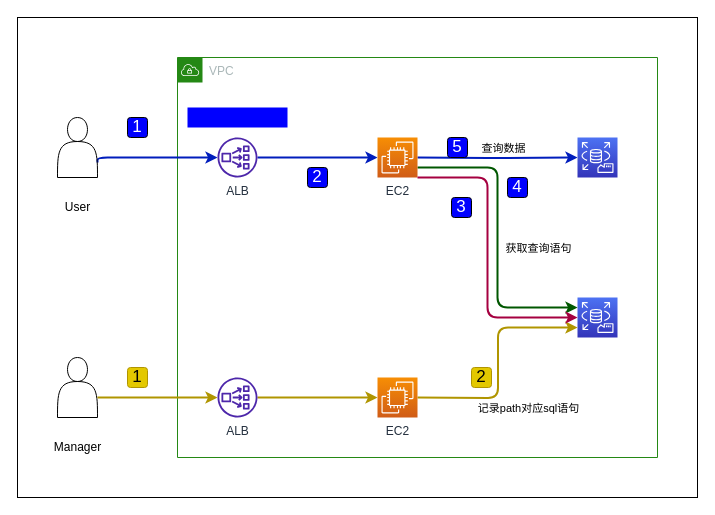
Image size: 715x515. Some labels were removed from this diagram. Each missing label, with the centre of its shape:
/api/path/to/data: point 237,117
api database: point 597,317
data hub: point 597,157
